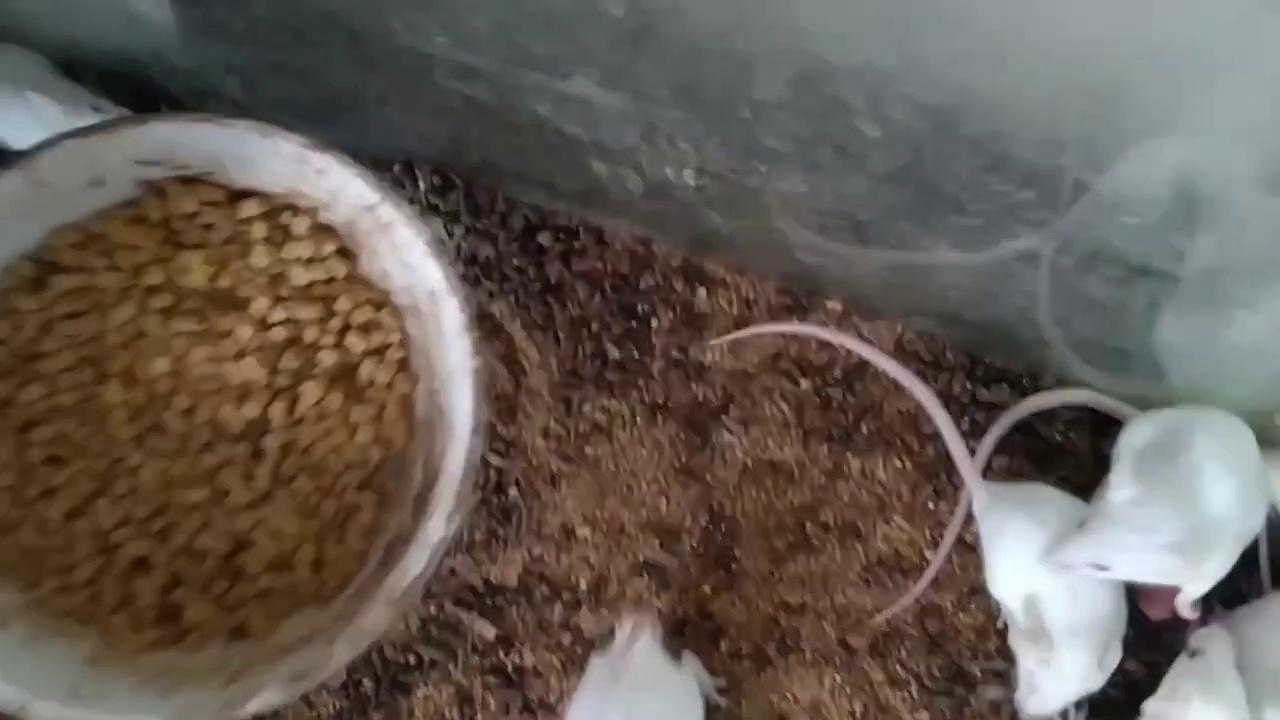rat: (869, 387, 1270, 617)
